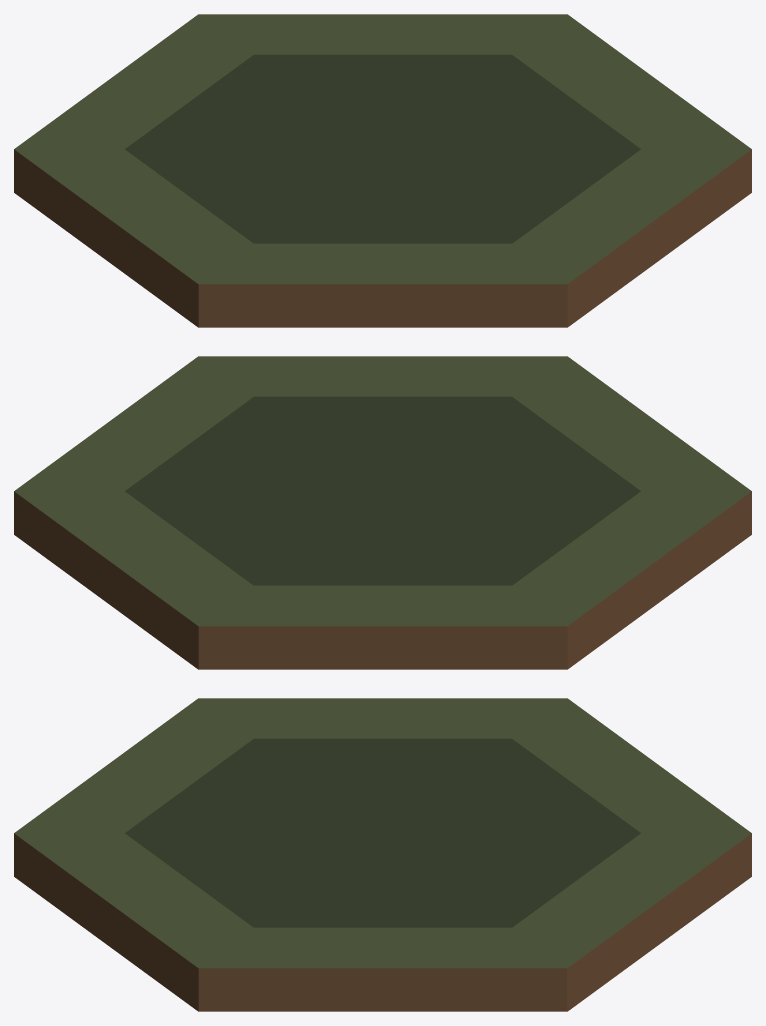
Rendered from tile_swamp.glb.
3 views of the same model, one above another, from view 1: azimuth 30°, elevation 25°; view 2: azimuth 150°, elevation 25°; view 3: azimuth 270°, elevation 25° (orthographic).
Parts seen in each view (by area): view 1: tile_swamp; view 2: tile_swamp; view 3: tile_swamp.
Boxes of the visible parts, x1,y1,x2,y2 form: tile_swamp: (14, 14, 751, 327); tile_swamp: (14, 356, 751, 669); tile_swamp: (14, 698, 751, 1011).
Bounding box in the file's own units: 1.73 × 0.13 × 2.
Materials: 1 (1 with a texture image).
